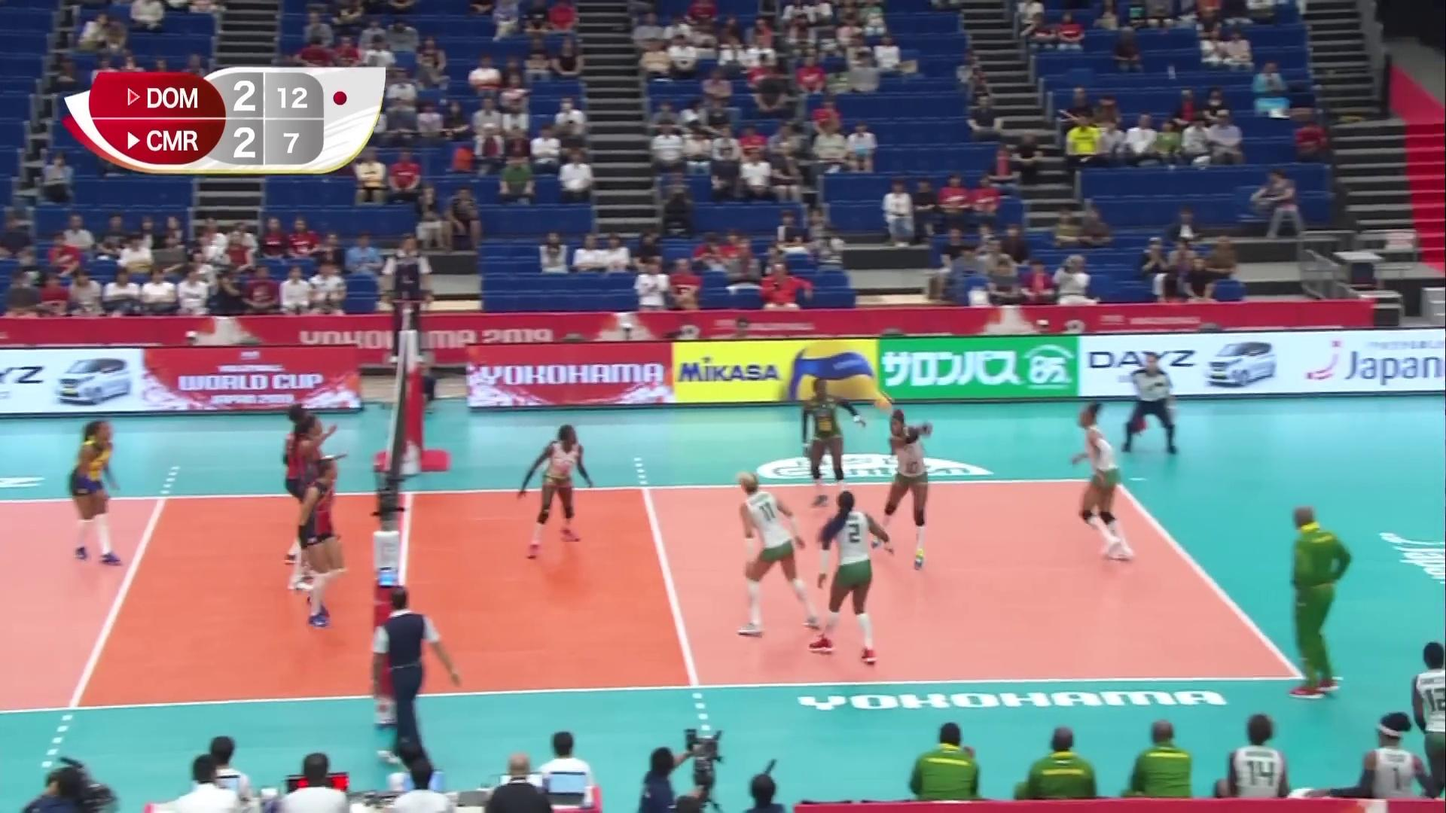player: (731, 473, 815, 640), (814, 492, 891, 666), (1076, 404, 1139, 563), (521, 425, 596, 556), (873, 409, 934, 570), (288, 416, 339, 590), (63, 424, 122, 563), (297, 460, 344, 629), (801, 377, 862, 507), (283, 403, 330, 562)
refree: (373, 587, 455, 766), (384, 233, 432, 360), (1122, 353, 1179, 452)
